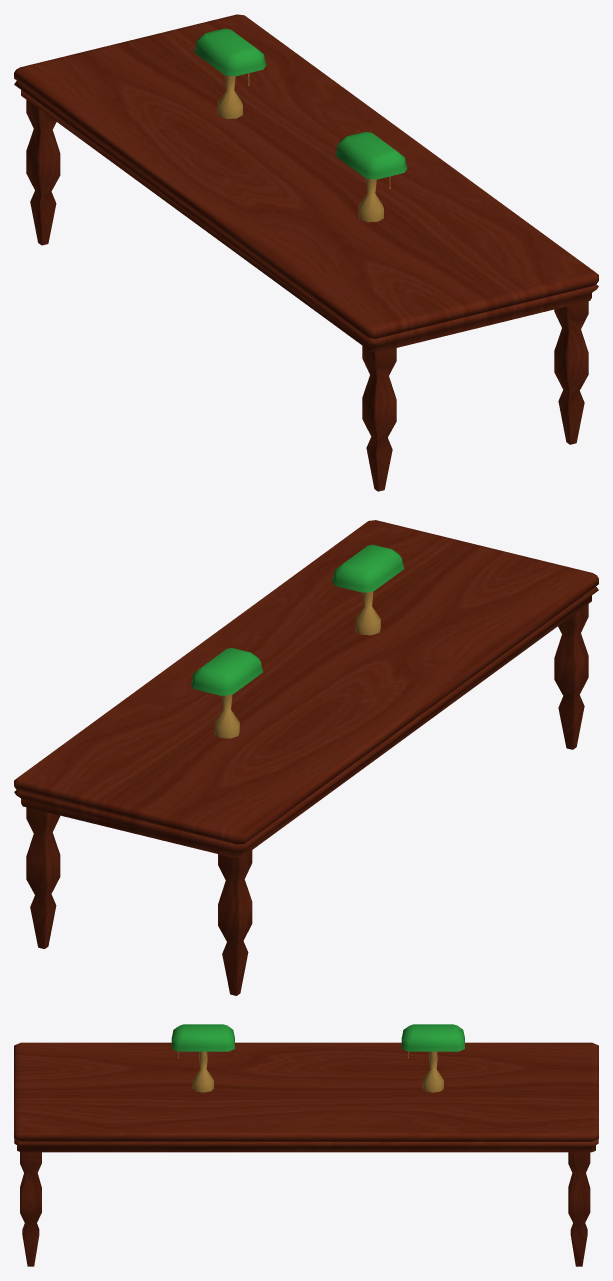
File: table.fbx
3 views of the same model, one above another, from view 1: azimuth 30°, elevation 25°; view 2: azimuth 150°, elevation 25°; view 3: azimuth 270°, elevation 25° (orthographic). The views are drawn at different scales.
Parts seen in each view (by area): view 1: table1, lamp_Light1, lamp_Light2; view 2: table1, lamp_Light2, lamp_Light1; view 3: table1, lamp_Light1, lamp_Light2.
Part boxes in pixels (<box>): table1: <box>14,14,598,491</box>; lamp_Light1: <box>335,132,407,222</box>; lamp_Light2: <box>194,28,266,118</box>; table1: <box>14,520,598,995</box>; lamp_Light2: <box>191,648,263,738</box>; lamp_Light1: <box>332,544,404,635</box>; table1: <box>14,1042,598,1266</box>; lamp_Light1: <box>171,1024,234,1092</box>; lamp_Light2: <box>401,1024,464,1092</box>.
Size of the model in its own units: 9.93 by 9.95 by 26.58.
